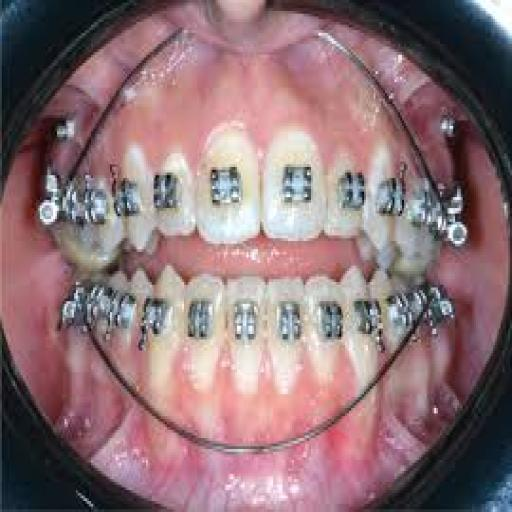correct_brace: (228, 290, 261, 364), (206, 163, 246, 222), (182, 290, 215, 354), (274, 293, 304, 363), (354, 288, 384, 356), (277, 156, 314, 205), (142, 290, 174, 346), (316, 293, 346, 349), (374, 174, 408, 223), (113, 172, 142, 225), (156, 162, 180, 224), (337, 168, 366, 219)
incorrect_brace: (184, 270, 226, 382), (304, 266, 344, 380), (326, 138, 365, 238), (155, 145, 194, 242)
